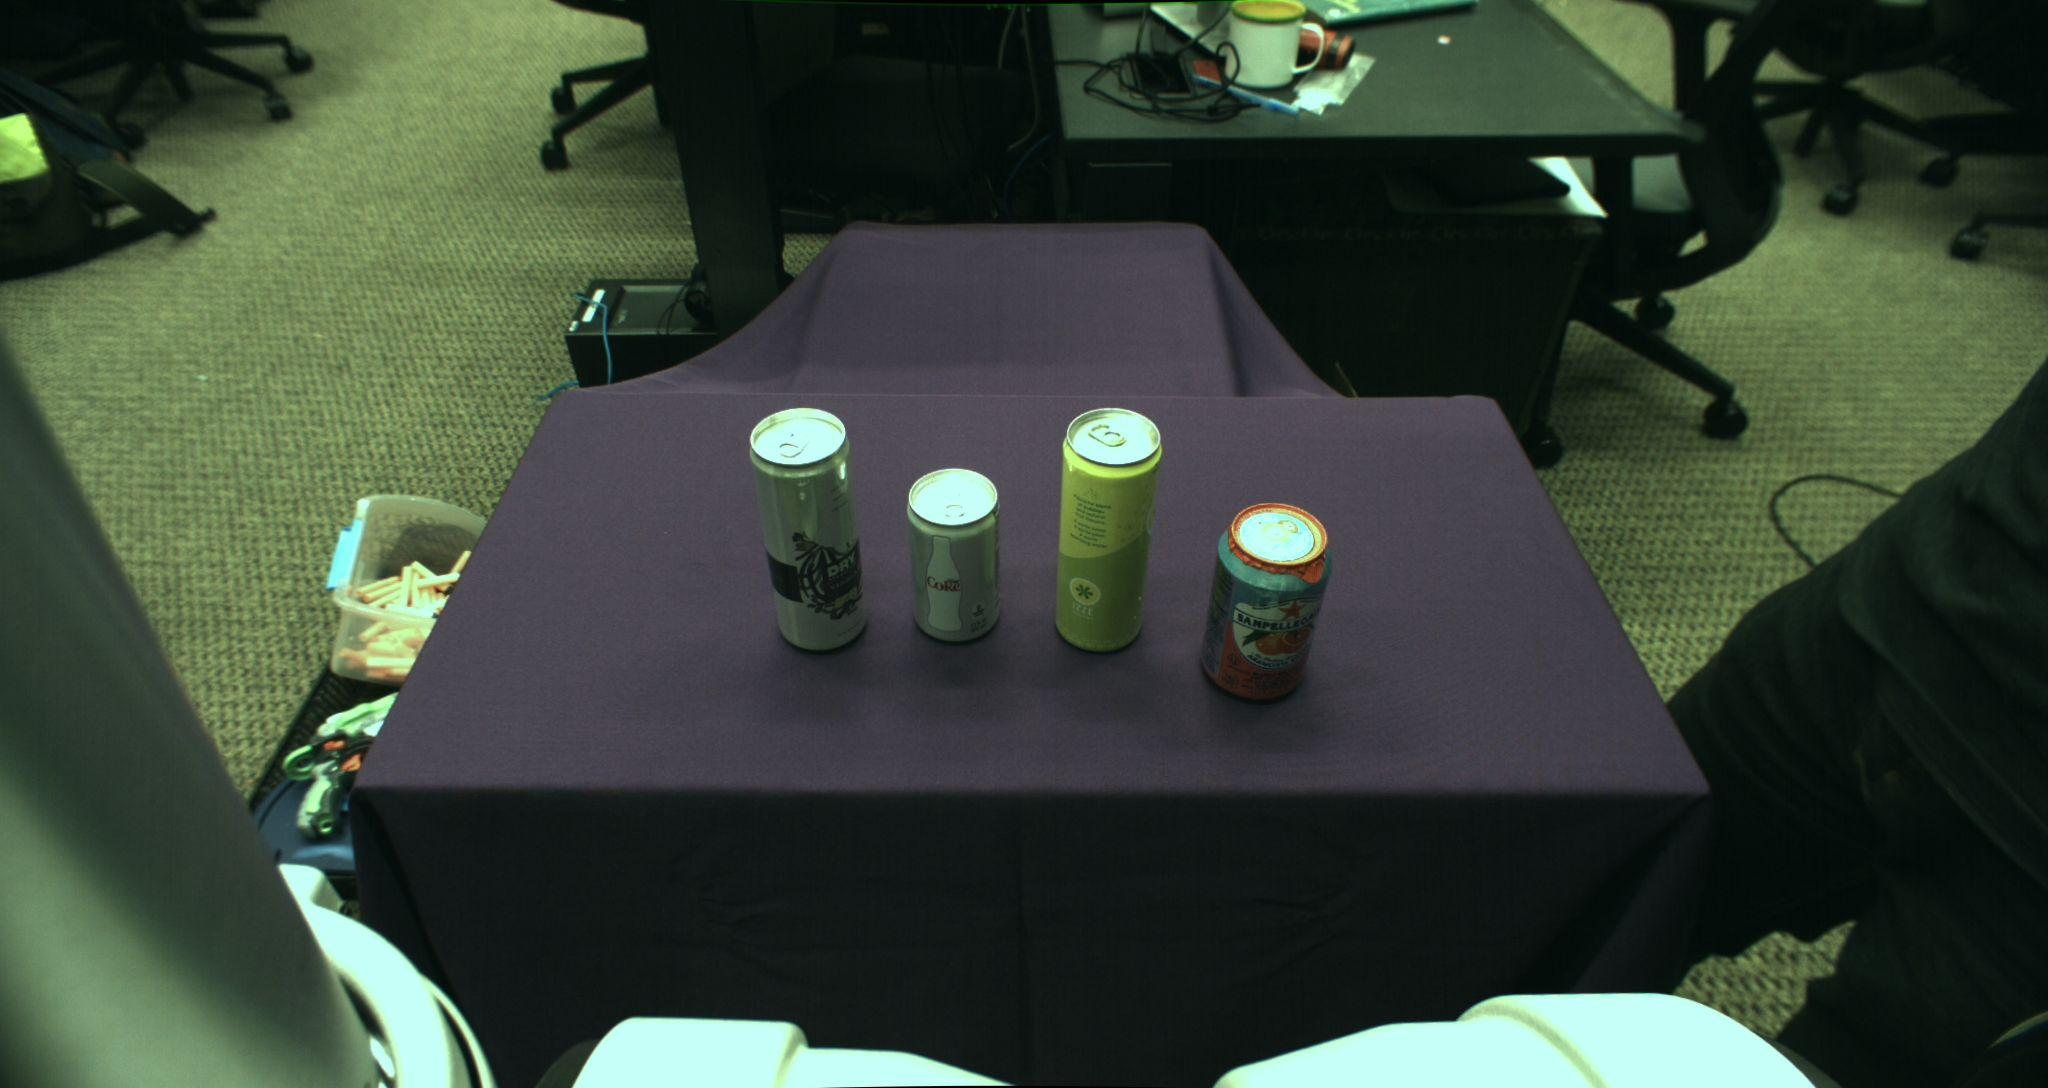can_diet_coke_small: (905, 467, 1000, 641)
can_dry_sparkling_vanilla_bean: (748, 406, 870, 652)
can_izze_fusions_lemon_lime: (1054, 406, 1161, 652)
can_sanpellegrino_blood_orange: (1200, 500, 1331, 700)
